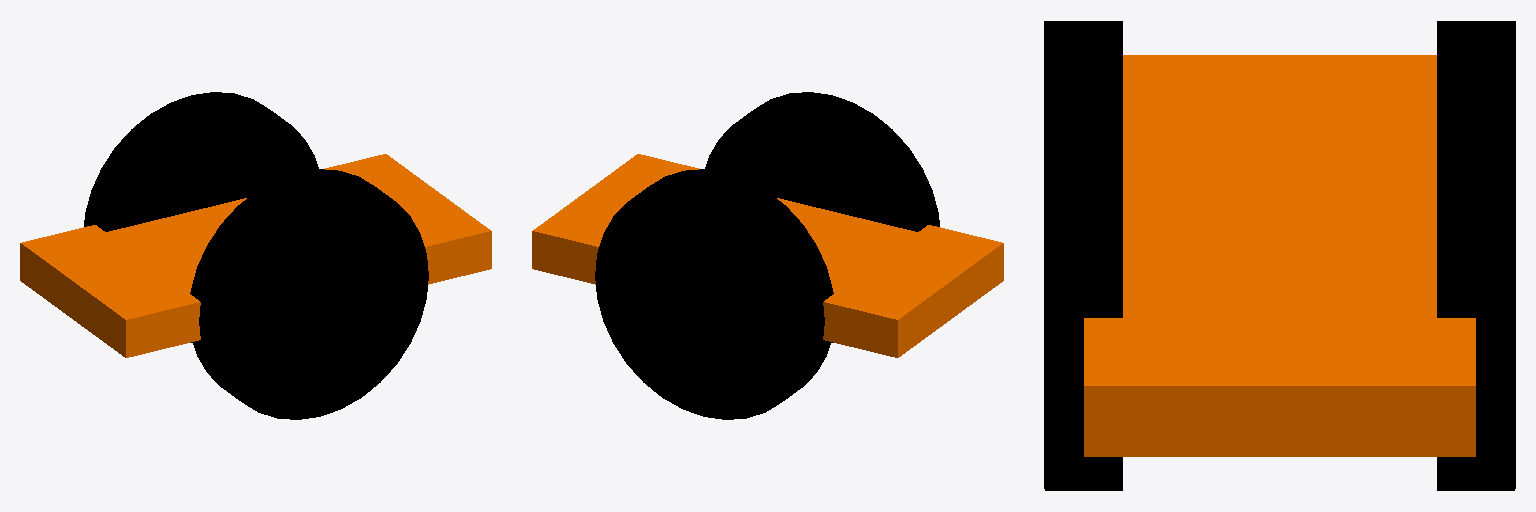
The robot description file, URDF, robot "my_robot":
<robot name="my_robot">
    <!-- to specify colours -->
    <material name="orange">
        <color rgba="1 0.5 0 1"/>
    </material>
    <material name="black">
        <color rgba="0 0 0 1"/>
    </material>

    <!-- links -->
    <link name="chassis">
        <visual>
            <geometry>
                <box size="1 0.5 0.1"/>
            </geometry>
            <material name="orange"/>
        </visual>
    </link>

    <link name="left_wheel">
        <visual>
            <geometry>
                <cylinder length="0.1" radius="0.3"/>
            </geometry>
            <origin rpy="-1.57075 0 0" xyz="0 -0.25 0"/>
            <material name="black"/>
        </visual>
    </link>

    <link name="right_wheel">
        <visual>
            <geometry>
                <cylinder length="0.1" radius="0.3"/>
            </geometry>
            <origin rpy="1.57075 0 0" xyz="0 0.25 0"/>
            <material name="black"/>
        </visual>
    </link>
    
    <!-- joints -->
    <joint name="left_wheel_to_chassis" type="continuous">
        <parent link="chassis"/>
        <child link="left_wheel"/>
        <axis xyz="0 1 0"/>
    </joint>

    <joint name="right_wheel_to_chassis" type="continuous">
        <parent link="chassis"/>
        <child link="right_wheel"/>
        <axis xyz="0 1 0"/>
    </joint>
</robot>

--- What the picture shows (computed from the rendered views, not written in the file) ---
Views: 3 orthographic renders of the robot side by side, from view 1: azimuth 30°, elevation 25°; view 2: azimuth 150°, elevation 25°; view 3: azimuth 270°, elevation 25°.
Model my_robot with 3 links and 2 joints (2 continuous), rooted at chassis, posed all joints at 0.
Visible links, largest first — view 1: left_wheel, chassis, right_wheel; view 2: right_wheel, chassis, left_wheel; view 3: chassis, left_wheel, right_wheel.
Boxes of the visible links, box(x1,y1,x2,y2) form: left_wheel: box(190, 169, 428, 419); chassis: box(20, 154, 491, 357); right_wheel: box(84, 92, 318, 342); right_wheel: box(595, 169, 833, 419); chassis: box(532, 154, 1003, 357); left_wheel: box(705, 92, 939, 342); chassis: box(1084, 55, 1475, 456); left_wheel: box(1044, 21, 1122, 490); right_wheel: box(1437, 21, 1515, 490).
Bounding box of the posed robot: 1 × 0.6 × 0.6 m (x, y, z).
Geometry: primitives only (box / cylinder / sphere), no mesh files.